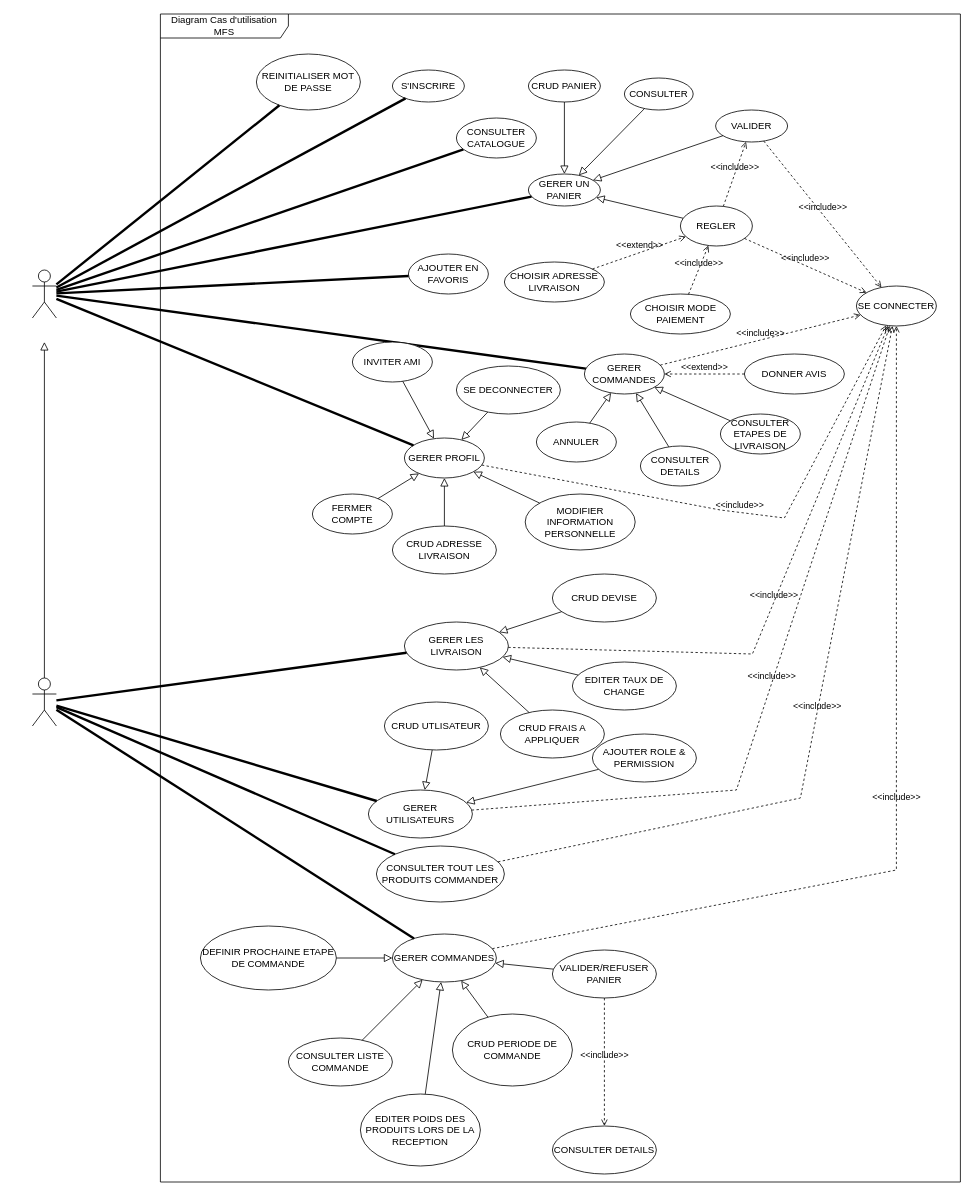
Some shapes in this 974 by 1196 pixel diagram are drawn without their labels. Here are the shapes that lost their labels. From the top down, the box of each, then its label:
(32, 269, 56, 318): Client
(32, 677, 56, 726): Administrateur
